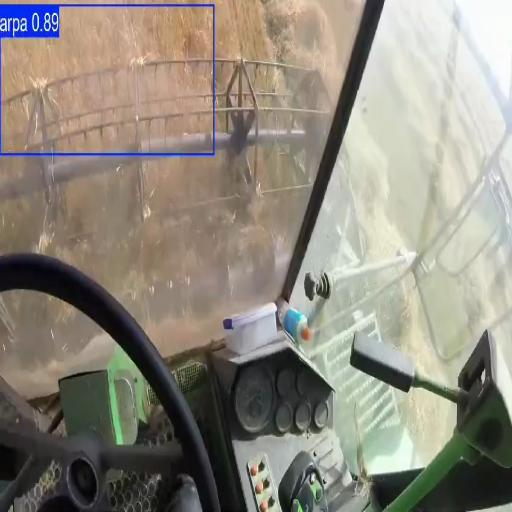arpa: (2, 9, 212, 96), (214, 0, 270, 56)
